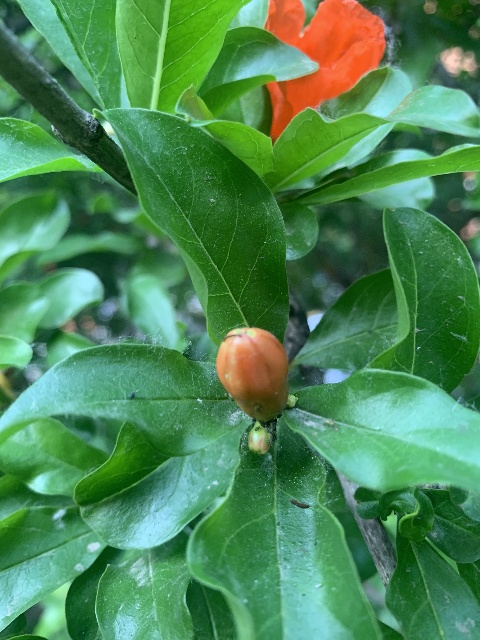bud: (216, 326, 289, 420), (247, 424, 273, 455)
flower: (261, 0, 386, 146)
